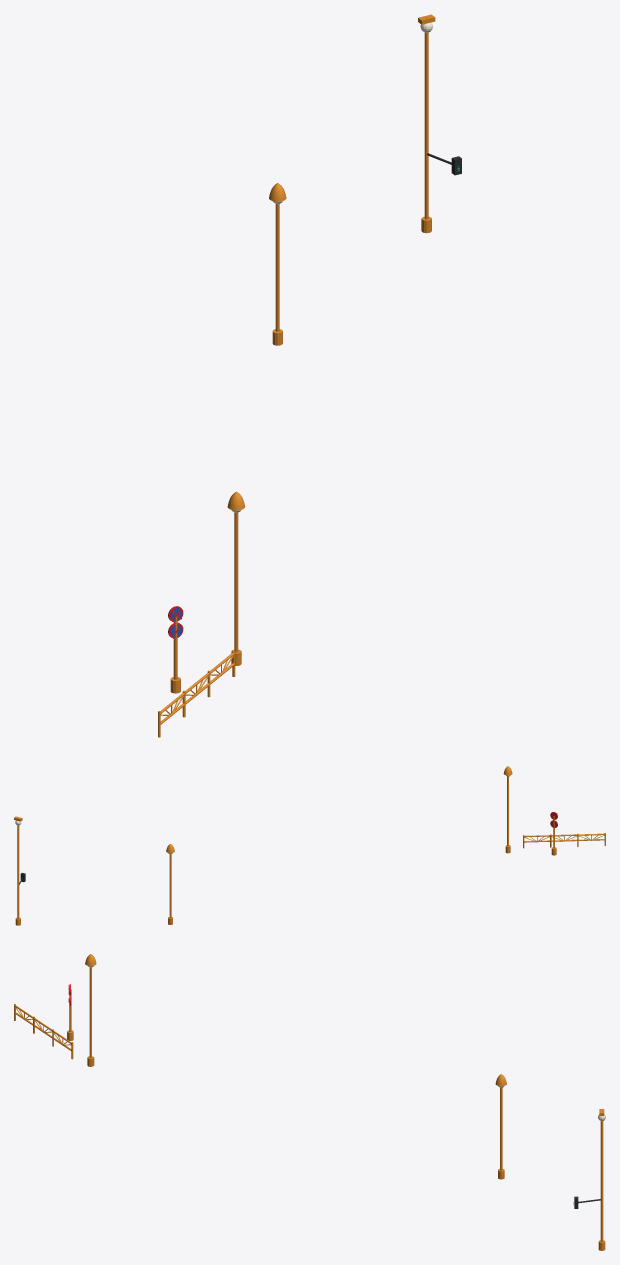
Rendered from street_projected.glb.
3 views of the same model, one above another, from view 1: azimuth 30°, elevation 25°; view 2: azimuth 150°, elevation 25°; view 3: azimuth 270°, elevation 25° (orthographic). The views are drawn at different scales.
Parts seen in each view (by area): view 1: street_provisional_pole; view 2: street_provisional_pole; view 3: street_provisional_pole.
Part boxes in pixels (x1,y1,x2,y2): street_provisional_pole: [158, 14, 435, 737]; street_provisional_pole: [14, 766, 605, 925]; street_provisional_pole: [14, 954, 605, 1250].
Size of the model in its own units: 32.71 by 9.14 by 35.2.
